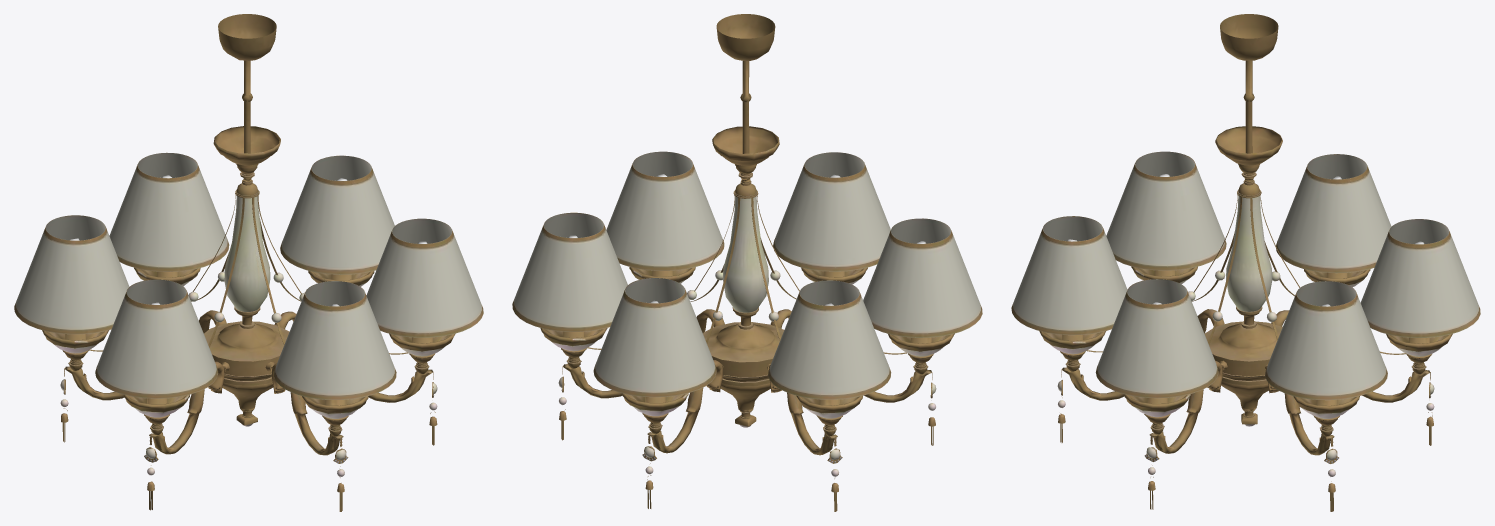
Rendered from Chandelier_01.glb.
The picture shows the model from 3 angles, left to right: view 1: azimuth 30°, elevation 25°; view 2: azimuth 150°, elevation 25°; view 3: azimuth 270°, elevation 25°; orthographic projection.
Visible parts, largest first — view 1: Chandelier_01; view 2: Chandelier_01; view 3: Chandelier_01.
Part boxes in pixels (<box>): Chandelier_01: <box>14,14,483,511</box>; Chandelier_01: <box>512,14,982,511</box>; Chandelier_01: <box>1011,14,1480,511</box>.
Bounding box in the file's own units: 0.7465 × 0.7982 × 0.8155.
2 materials, 1 textured.
